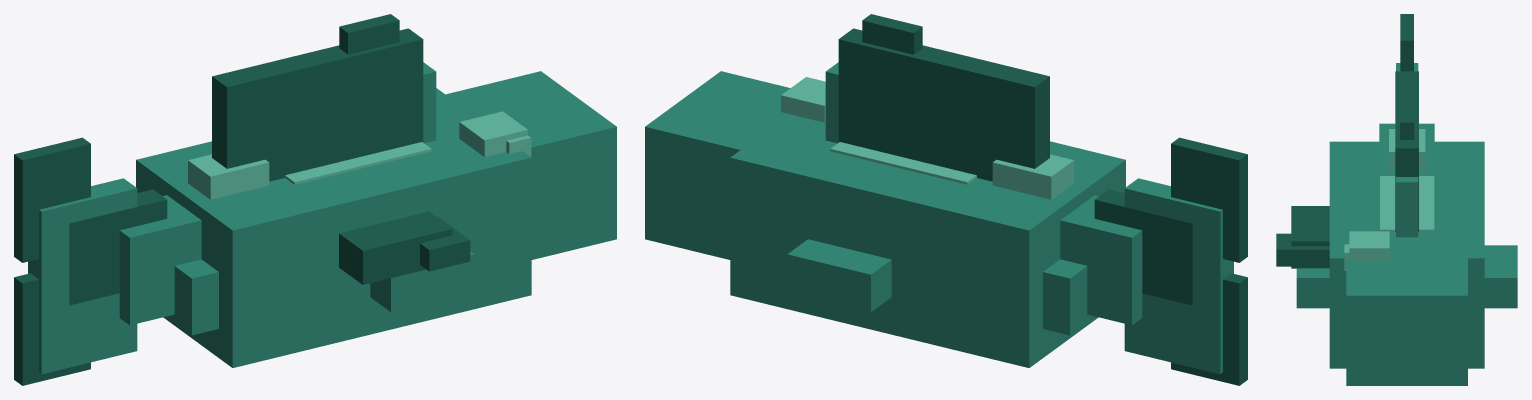
The model's file is fish_reef_jack.glb.
3 views of the same model, side by side, from view 1: azimuth 30°, elevation 25°; view 2: azimuth 150°, elevation 25°; view 3: azimuth 270°, elevation 25° (orthographic). The views are drawn at different scales.
Parts seen in each view (by area): view 1: FishArt_body, FishArt_dorsal, FishArt_tail, FishArt_pectoral, FishArt_specialty, FishArt_eye; view 2: FishArt_body, FishArt_dorsal, FishArt_tail, FishArt_specialty, FishArt_eye; view 3: FishArt_body, FishArt_pectoral, FishArt_dorsal, FishArt_specialty, FishArt_eye, FishArt_tail.
Part boxes in pixels (x1,y1,x2,y2): FishArt_body: (28,62,616,374); FishArt_dorsal: (212,14,423,181); FishArt_tail: (14,137,167,385); FishArt_pectoral: (339,211,470,284); FishArt_specialty: (188,142,431,199); FishArt_eye: (459,111,531,156); FishArt_body: (645,62,1233,374); FishArt_dorsal: (838,14,1049,181); FishArt_tail: (1094,137,1247,385); FishArt_specialty: (830,142,1073,199); FishArt_eye: (781,77,825,122); FishArt_body: (1296,63,1517,385); FishArt_pectoral: (1276,206,1329,268); FishArt_dorsal: (1395,71,1418,231); FishArt_specialty: (1380,129,1434,231); FishArt_eye: (1344,231,1389,270); FishArt_tail: (1400,14,1413,71).
Bounding box in the file's own units: 0.3091 × 0.1442 × 0.1439.
